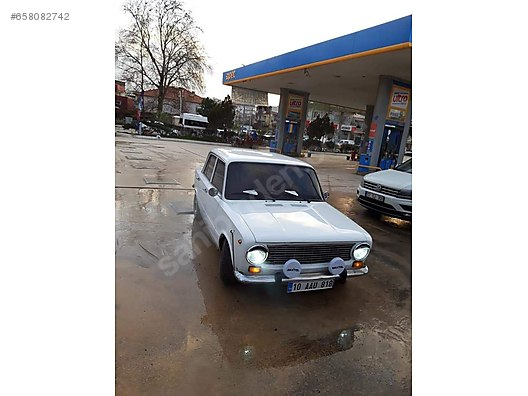murat: (192, 142, 374, 303)
